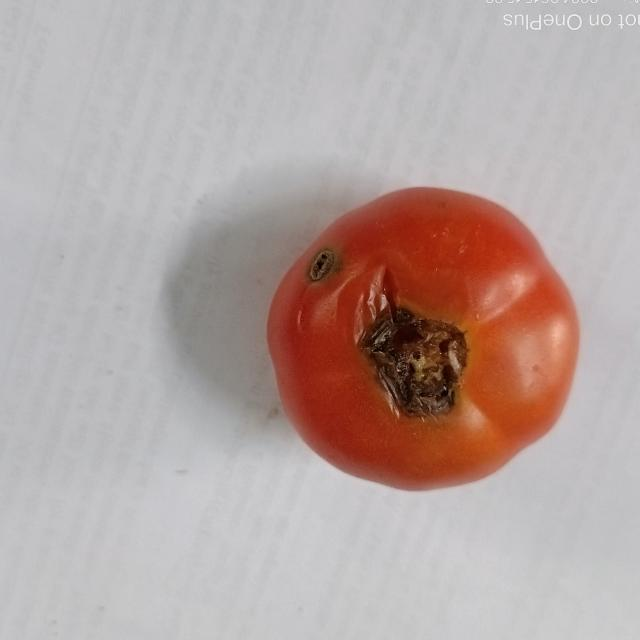Botrytis: (376, 312, 470, 420), (295, 244, 339, 292)
